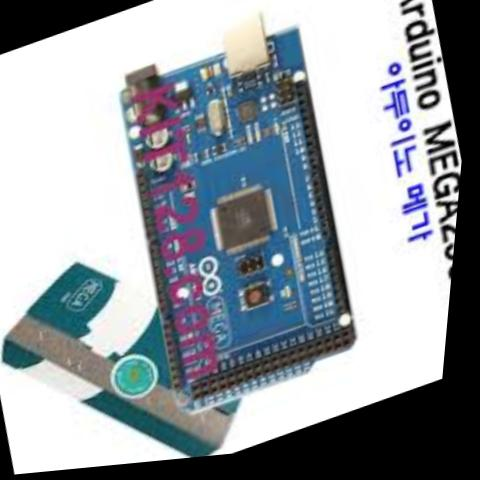Arduino-Mega: (72, 0, 406, 447)
